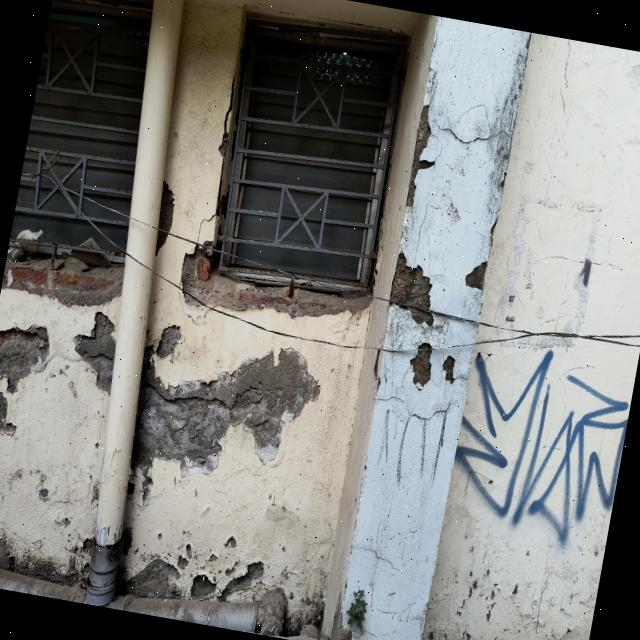crack: (191, 55, 240, 243), (385, 392, 454, 432), (436, 116, 501, 154)
peeling: (179, 249, 377, 313), (1, 246, 122, 310), (382, 232, 450, 335), (399, 98, 441, 217), (456, 236, 491, 304), (406, 332, 439, 388)
spalling: (132, 317, 322, 507), (0, 318, 57, 450), (0, 516, 89, 585), (120, 523, 194, 594), (72, 299, 119, 398), (190, 549, 280, 597), (325, 597, 359, 640), (0, 382, 21, 445)
stain_mould: (423, 565, 592, 640), (478, 35, 532, 218), (348, 569, 378, 640)
